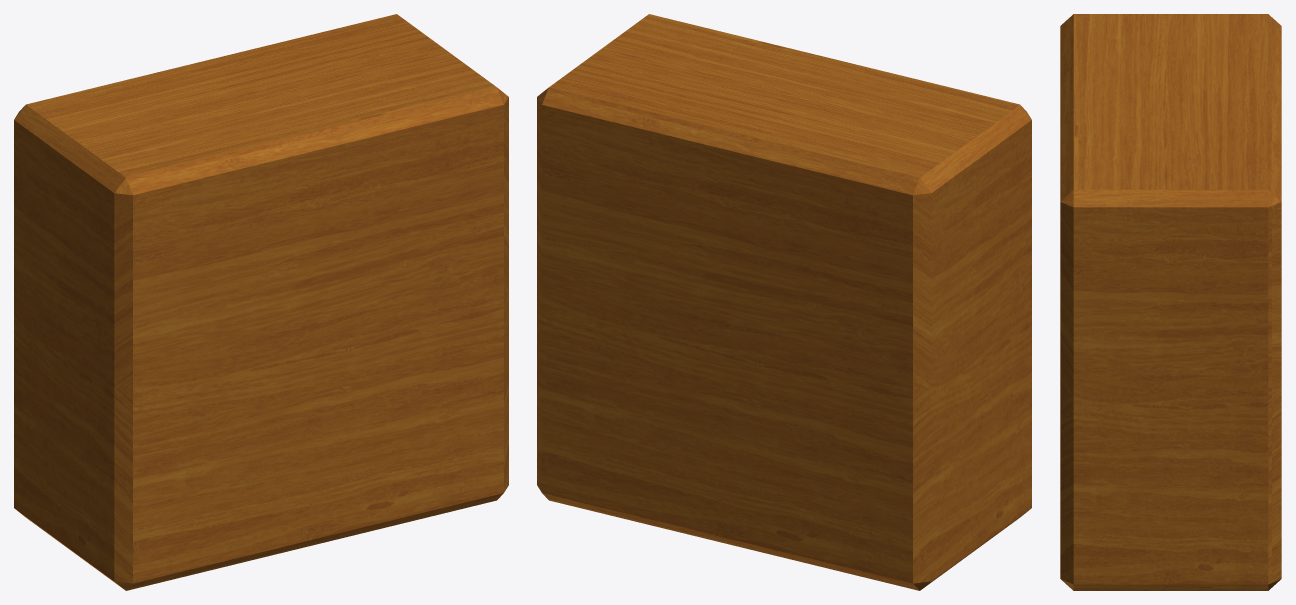
The model's file is Block_2x2.fbx.
3 views of the same model, side by side, from view 1: azimuth 30°, elevation 25°; view 2: azimuth 150°, elevation 25°; view 3: azimuth 270°, elevation 25° (orthographic). The views are drawn at different scales.
Parts seen in each view (by area): view 1: 2x2; view 2: 2x2; view 3: 2x2.
Boxes of the visible parts, x1,y1,x2,y2 form: 2x2: [14, 14, 508, 590]; 2x2: [537, 14, 1031, 590]; 2x2: [1060, 14, 1281, 590].
Size of the model in its own units: 200 by 200 by 100.
1 material, 1 textured.
